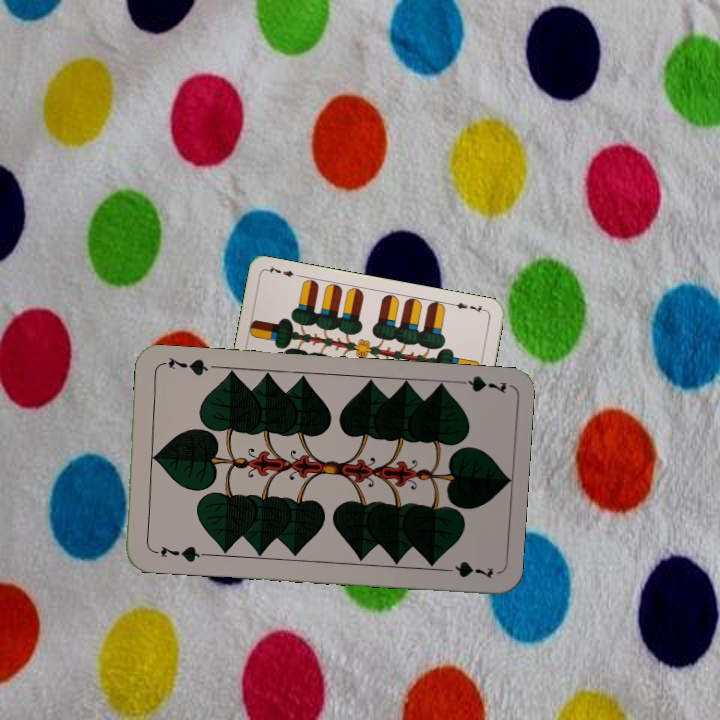E7: (449, 298, 489, 315)
G7: (449, 372, 509, 396), (148, 542, 207, 565)
